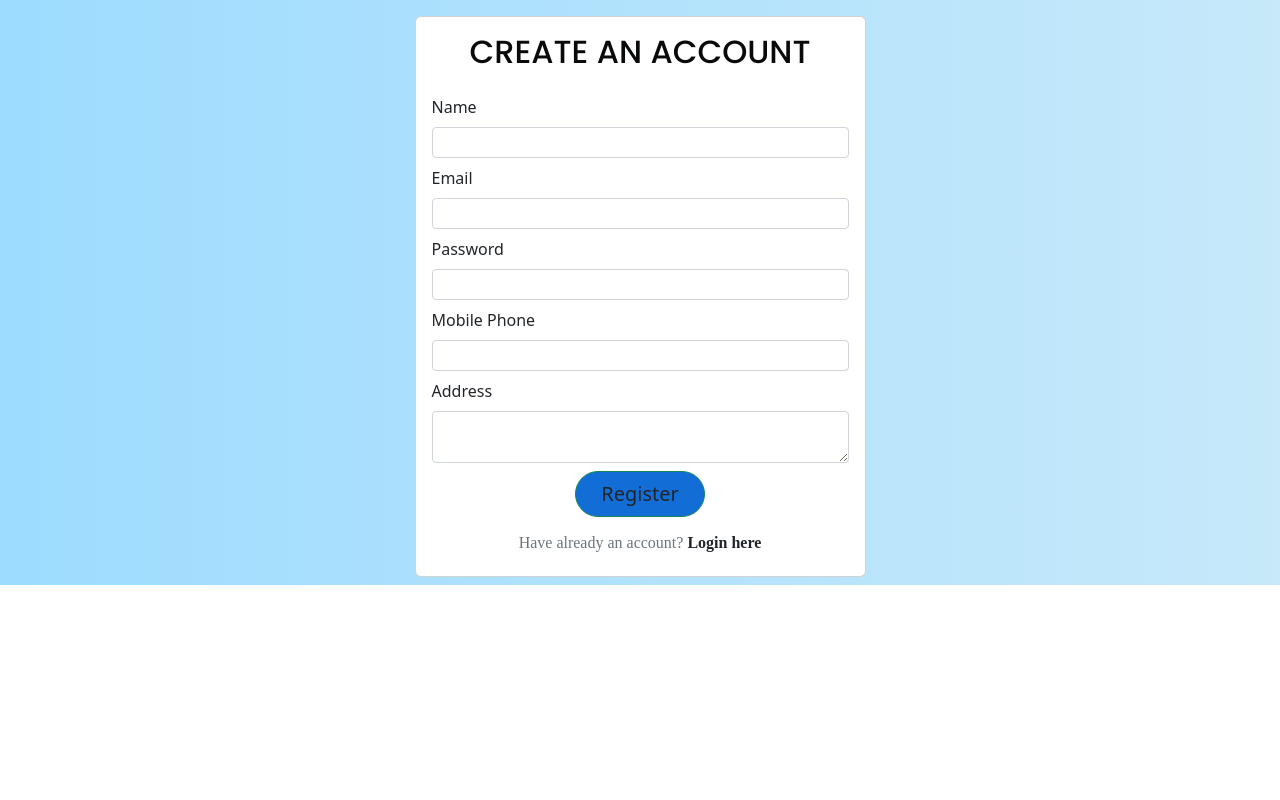
Test: rejects an invalid email, a short password and a non-numeric phone
Type "Anna Kovacs" into the field labelled "Name". click: (640, 143)
box: [432,127,848,158]
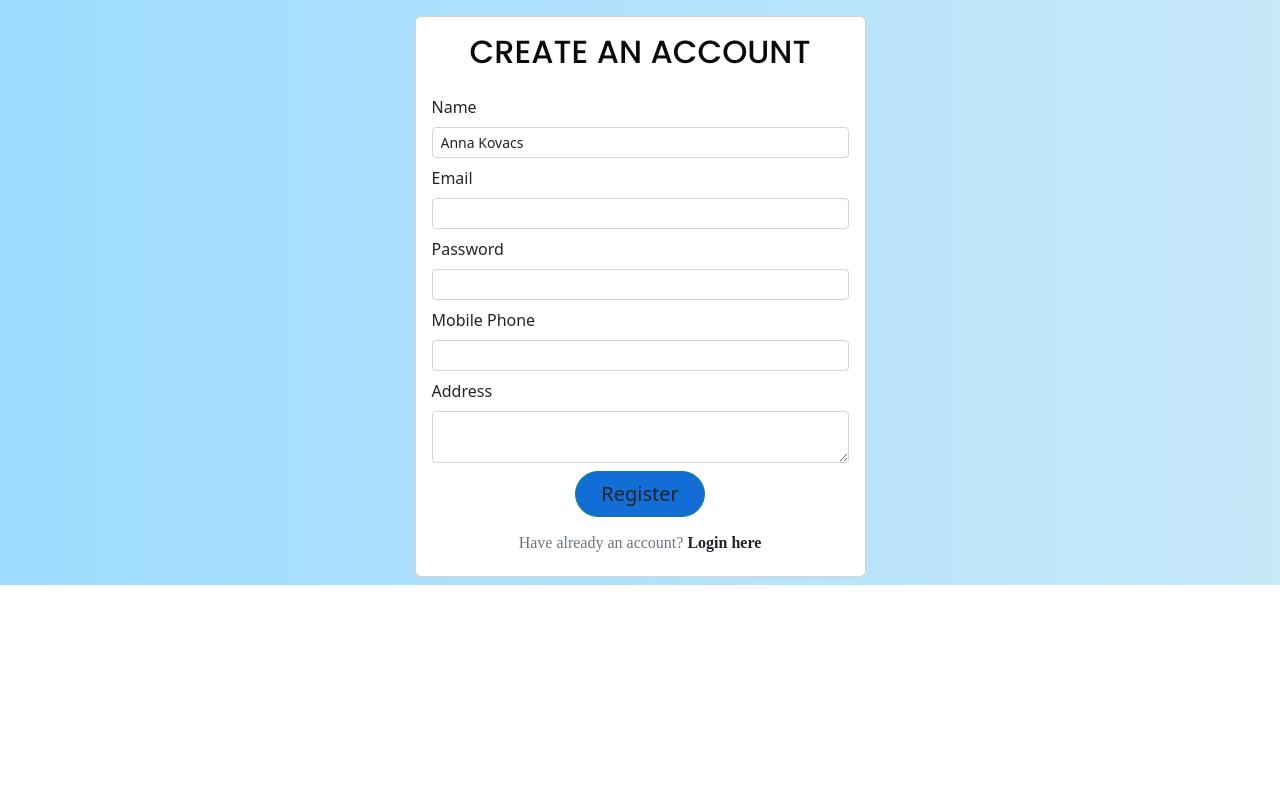
Type "not-an-email" into the field labelled "Email". click: (640, 214)
box: [432,198,848,229]
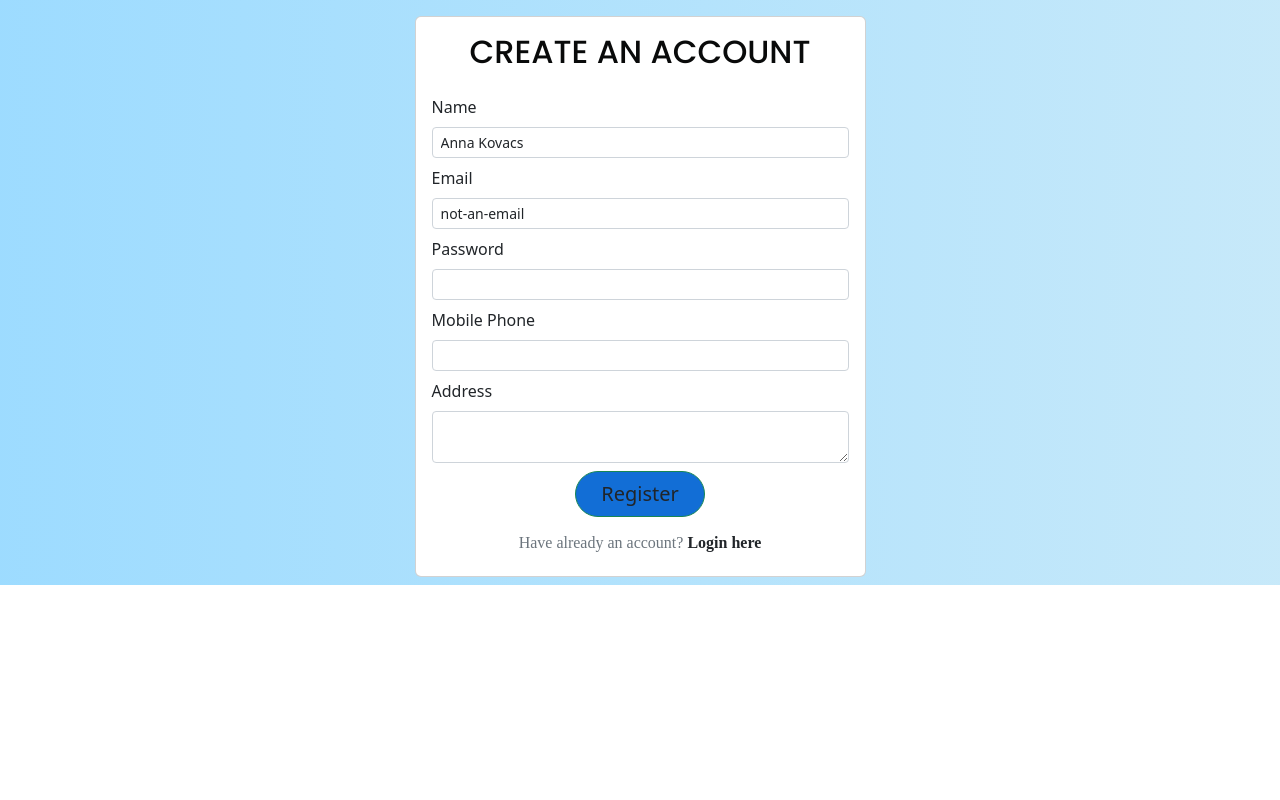
Type "short" into the password field labelled "Password". click: (640, 285)
box: [432,269,848,300]
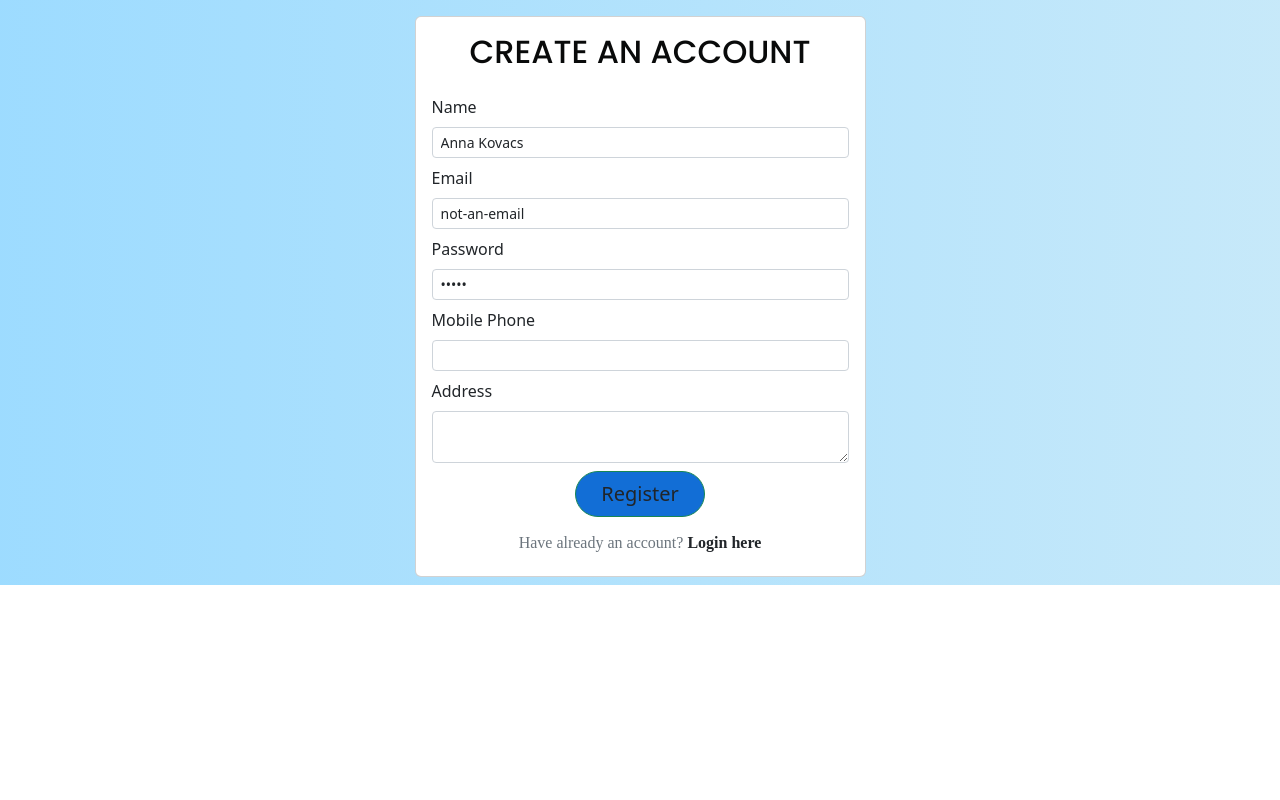
Type "abc" into the 3rd field. click: (640, 356)
box: [432,340,848,371]
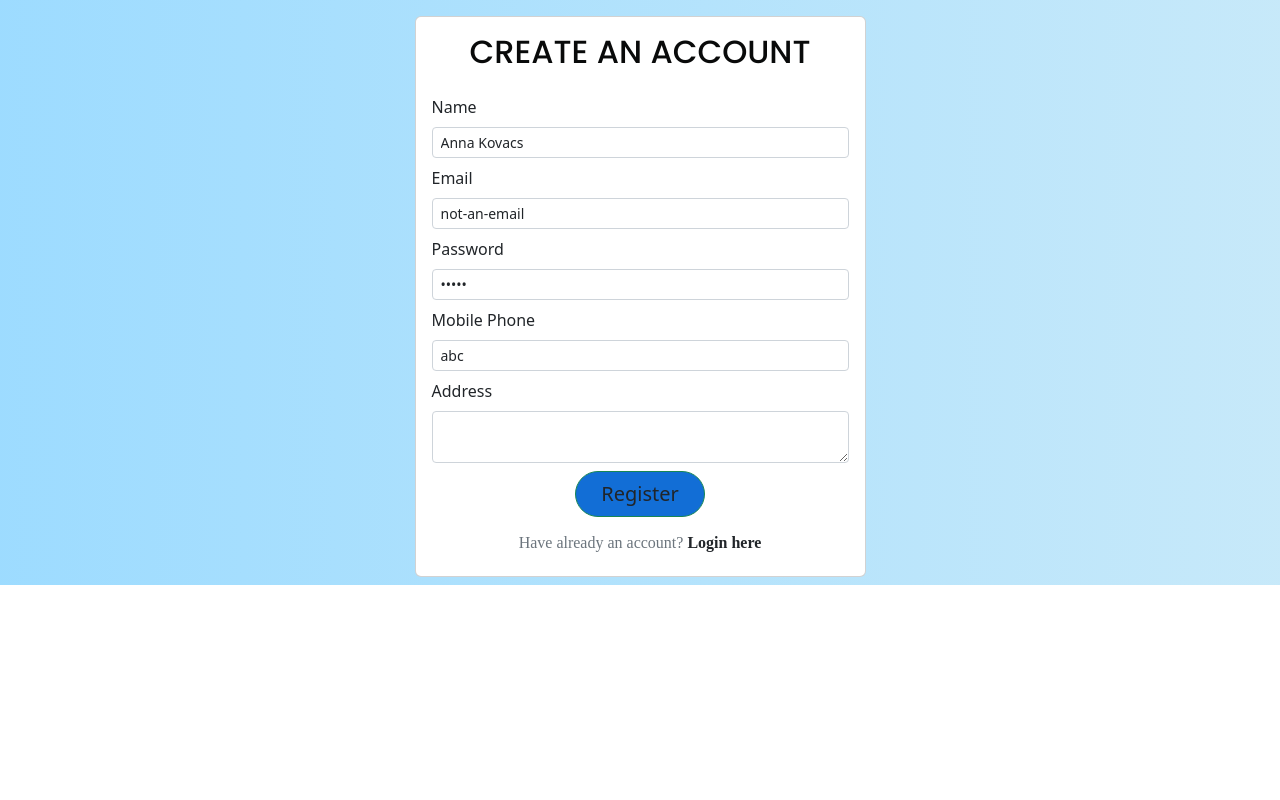
Type "Budapest" into the text box. click: (640, 437)
box: [432,411,848,463]
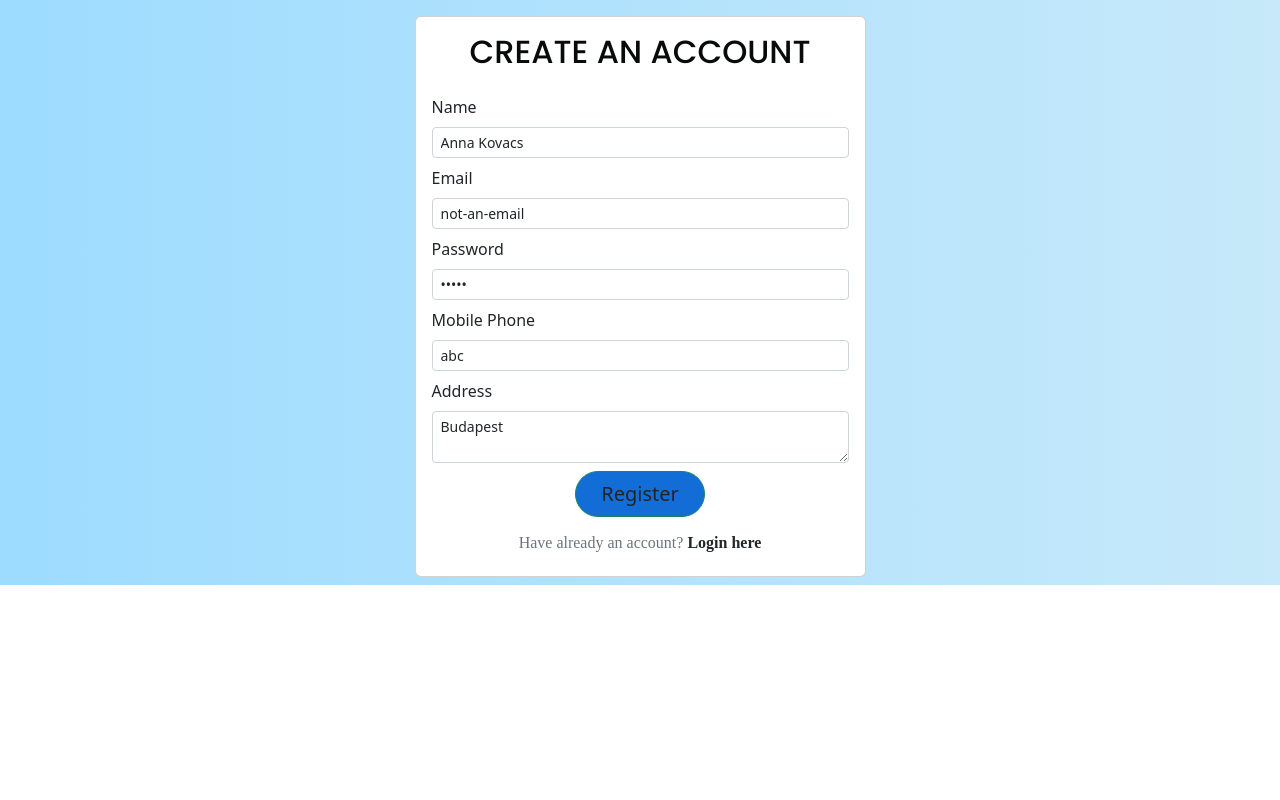
Click the button "Register". click: (640, 494)
box: [575,471,705,517]
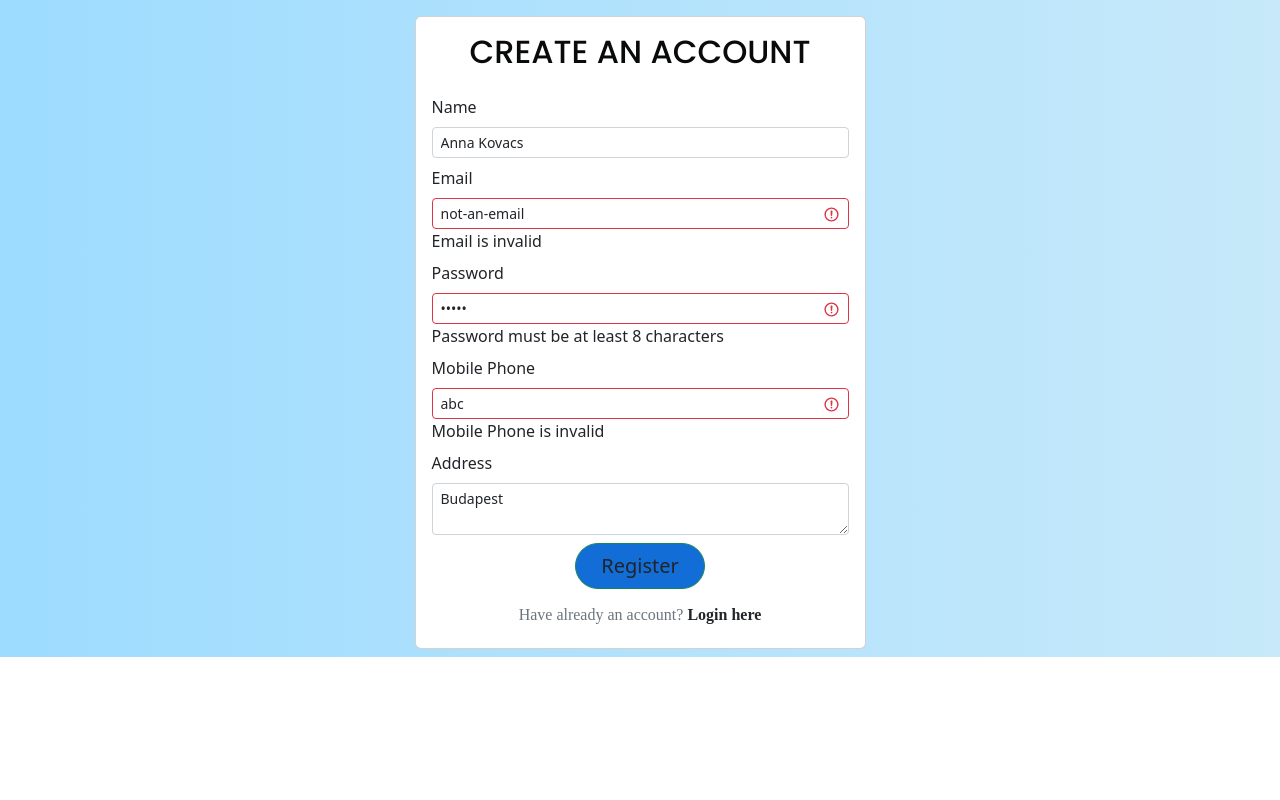
Result: the text "Email is invalid" is shown at [432,230,542,252]
Result: the text "Password must be at least 8 characters" is shown at [432,325,724,347]
Result: the text "Mobile Phone is invalid" is shown at [432,420,604,442]
